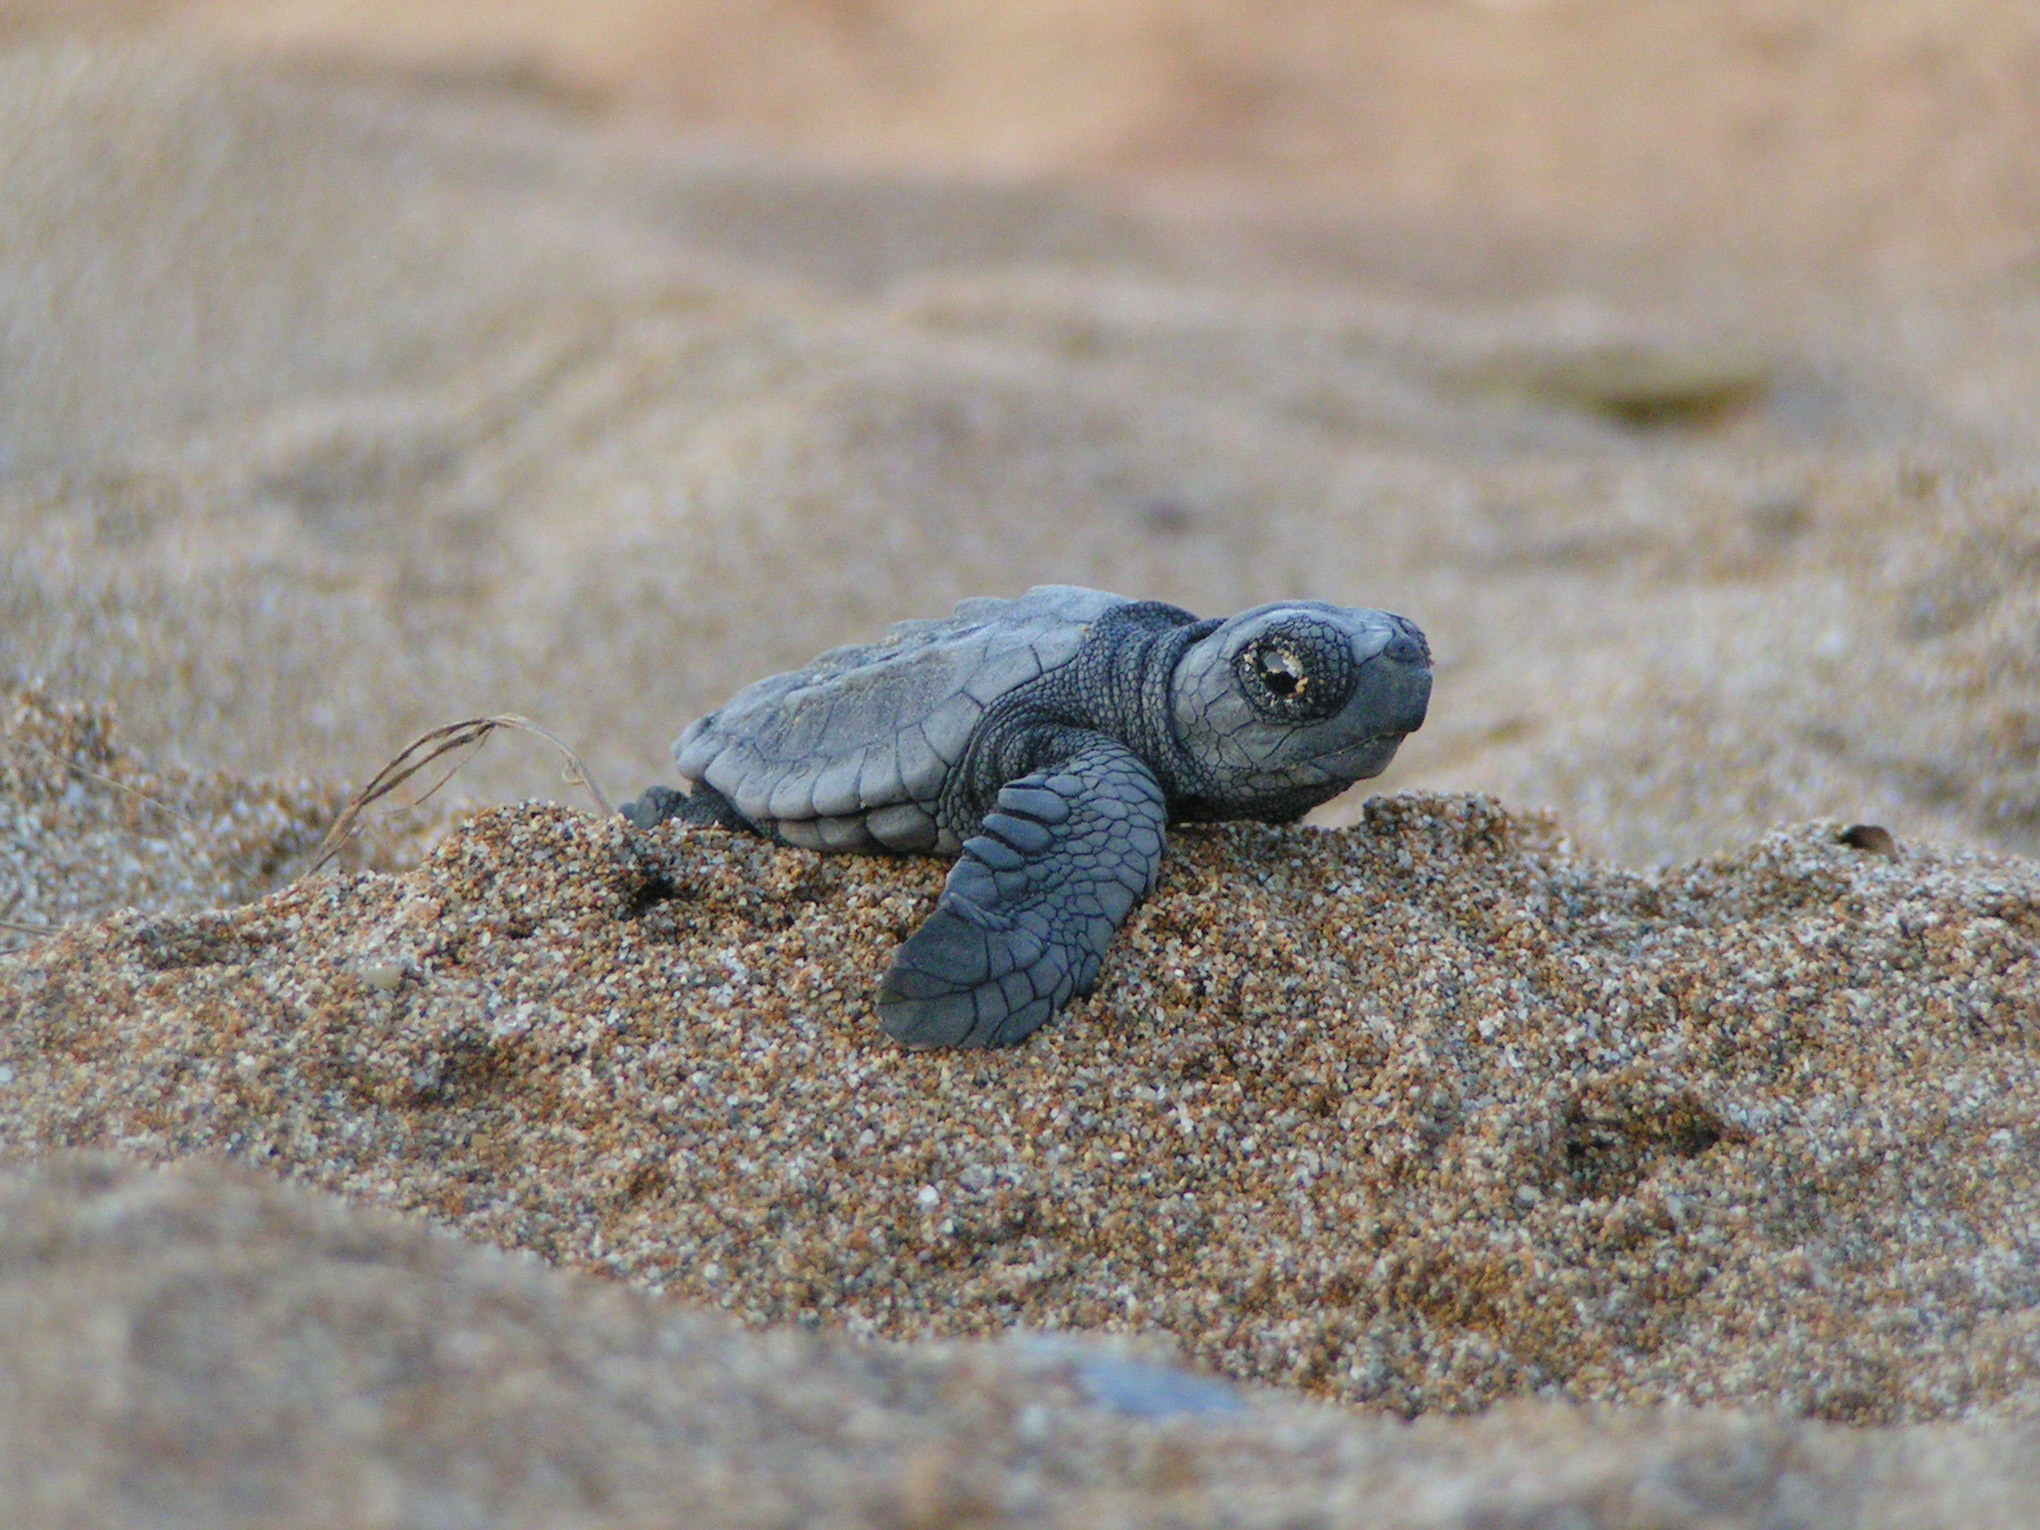eye: (1234, 633, 1351, 723)
mouth: (1248, 710, 1434, 792)
